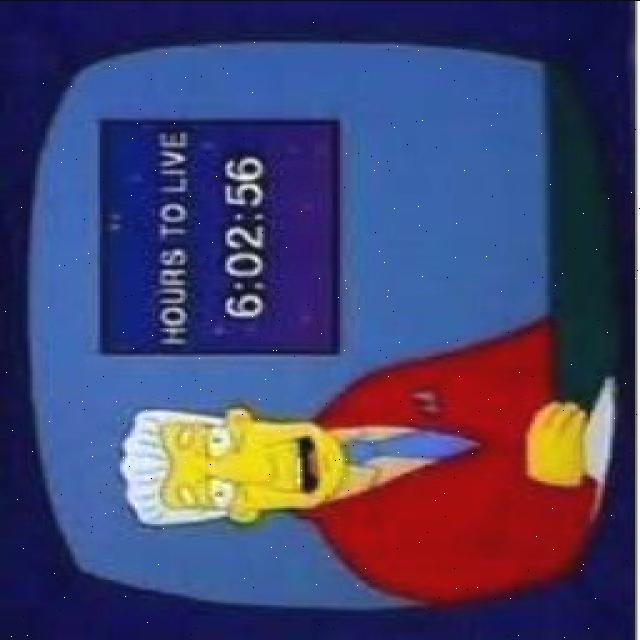Kent Brockman: (115, 400, 350, 528)
